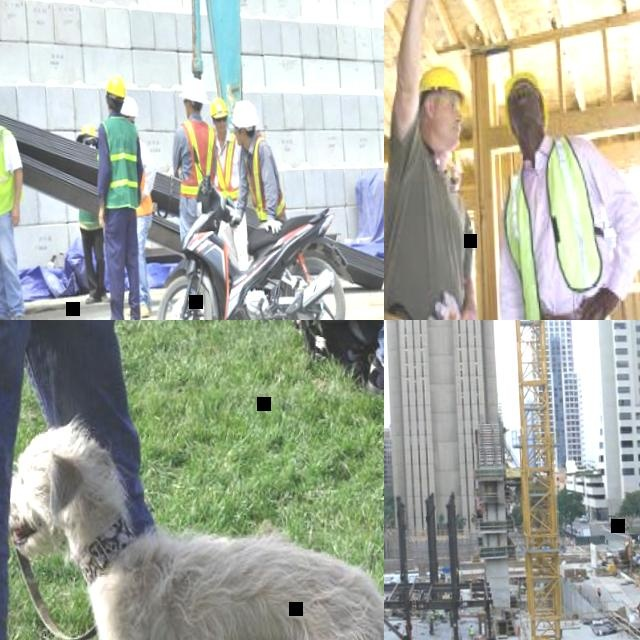Hardhat: (501, 69, 548, 130), (417, 64, 468, 94), (179, 74, 207, 103), (230, 98, 257, 125), (207, 96, 227, 118), (104, 74, 123, 96), (118, 97, 135, 118), (75, 123, 96, 139), (595, 584, 598, 586)
NO-Mask: (430, 114, 460, 150), (511, 97, 536, 123), (233, 132, 245, 145), (216, 121, 227, 133), (182, 106, 190, 116)
NO-Safety Vest: (384, 144, 466, 320)
Person: (0, 320, 211, 640), (485, 61, 640, 320), (384, 0, 485, 320), (84, 70, 148, 320), (227, 96, 292, 320), (165, 73, 223, 320), (114, 96, 162, 314), (207, 93, 247, 320), (299, 320, 384, 408), (0, 85, 29, 320), (69, 120, 106, 301), (426, 610, 434, 635), (466, 623, 473, 640), (593, 584, 600, 596), (635, 600, 640, 616), (515, 624, 519, 636)
Safety Vest: (500, 135, 600, 320), (240, 130, 286, 222), (100, 112, 139, 207), (173, 116, 216, 196), (72, 143, 100, 230), (209, 126, 240, 200), (0, 124, 13, 218), (132, 167, 152, 217), (467, 625, 471, 634), (426, 614, 431, 621), (515, 626, 518, 632)
machinery: (175, 0, 384, 281), (612, 531, 636, 572)
vehicle: (631, 551, 640, 567)
